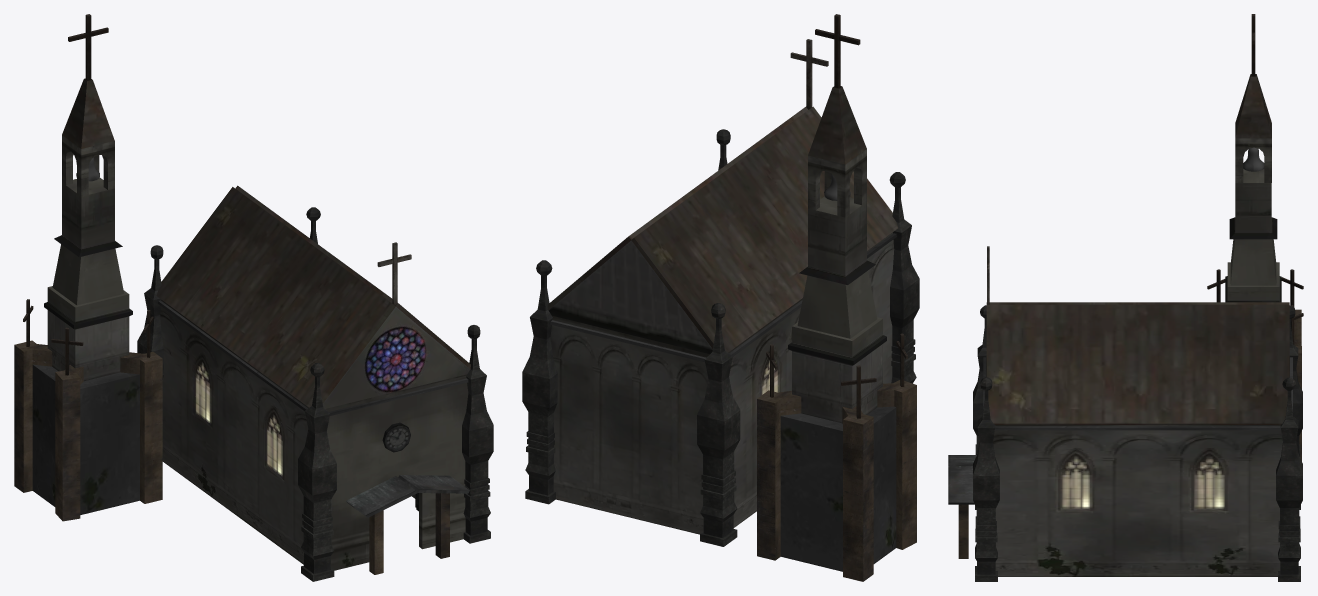
File: church.glb
The picture shows the model from 3 angles, left to right: view 1: azimuth 30°, elevation 25°; view 2: azimuth 150°, elevation 25°; view 3: azimuth 270°, elevation 25°; orthographic projection. The views are drawn at different scales.
Visible parts, largest first — view 1: igreja_partes:pCube12_igreja_estrutura_0, igreja_partes:pCube14_igreja_estrutura_0, torre_igreja:corpo_torre_0, torre_igreja:base_torre_0, igreja_partes:polySurface1_estrutura_02_0 (×3), igreja_partes:pCube13_igreja_estrutura_0, torre_igreja:base_4_torre_0, torre_igreja:base_2_torre_0, torre_igreja:base_1_torre_0, igreja_partes:pCube16_igreja_estrutura_0, torre_igreja:telhado_torre_0, torre_igreja:arco_torre_0 (+5 smaller); view 2: igreja_partes:pCube12_igreja_estrutura_0, igreja_partes:pCube14_igreja_estrutura_0, torre_igreja:corpo_torre_0, igreja_partes:polySurface1_estrutura_02_0 (×3), torre_igreja:base_torre_0, igreja_partes:pCube13_igreja_estrutura_0, torre_igreja:base_1_torre_0, torre_igreja:base_3_torre_0, torre_igreja:base_4_torre_0, torre_igreja:telhado_torre_0, torre_igreja:arco_torre_0, igreja_partes:pCube15_igreja_estrutura_0 (+3 smaller); view 3: igreja_partes:pCube12_igreja_estrutura_0, igreja_partes:pCube14_igreja_estrutura_0, igreja_partes:polySurface1_estrutura_02_0 (×4), torre_igreja:corpo_torre_0, torre_igreja:telhado_torre_0, igreja_partes:pCube15_igreja_estrutura_0, igreja_partes:pCube16_igreja_estrutura_0, torre_igreja:arco_torre_0, SmartCombine_0_torre_0, igreja_partes:pCube17_igreja_estrutura_0.
Boxes of the visible parts, x1,y1,x2,y2 form: igreja_partes:pCube12_igreja_estrutura_0: [160, 300, 468, 570]; igreja_partes:pCube14_igreja_estrutura_0: [156, 185, 470, 407]; torre_igreja:corpo_torre_0: [44, 177, 132, 381]; torre_igreja:base_torre_0: [32, 364, 139, 514]; igreja_partes:polySurface1_estrutura_02_0 (×3): [137, 293, 493, 581]; igreja_partes:pCube13_igreja_estrutura_0: [323, 307, 470, 408]; torre_igreja:base_4_torre_0: [55, 365, 83, 521]; torre_igreja:base_2_torre_0: [120, 351, 162, 503]; torre_igreja:base_1_torre_0: [14, 340, 52, 492]; igreja_partes:pCube16_igreja_estrutura_0: [346, 475, 469, 517]; torre_igreja:telhado_torre_0: [62, 78, 114, 148]; torre_igreja:arco_torre_0: [62, 135, 114, 196]; igreja_partes:pCube12_igreja_estrutura_0: [550, 232, 894, 534]; igreja_partes:pCube14_igreja_estrutura_0: [547, 106, 897, 352]; torre_igreja:corpo_torre_0: [788, 196, 886, 423]; igreja_partes:polySurface1_estrutura_02_0 (×3): [522, 225, 919, 546]; torre_igreja:base_torre_0: [780, 406, 896, 571]; igreja_partes:pCube13_igreja_estrutura_0: [548, 240, 712, 353]; torre_igreja:base_1_torre_0: [842, 406, 873, 581]; torre_igreja:base_3_torre_0: [757, 390, 801, 560]; torre_igreja:base_4_torre_0: [877, 380, 916, 549]; torre_igreja:telhado_torre_0: [808, 86, 866, 164]; torre_igreja:arco_torre_0: [808, 149, 866, 217]; igreja_partes:pCube15_igreja_estrutura_0: [550, 233, 896, 362]; igreja_partes:pCube12_igreja_estrutura_0: [993, 425, 1282, 576]; igreja_partes:pCube14_igreja_estrutura_0: [986, 302, 1289, 424]; igreja_partes:polySurface1_estrutura_02_0 (×4): [973, 355, 1302, 581]; torre_igreja:corpo_torre_0: [1225, 169, 1281, 302]; torre_igreja:telhado_torre_0: [1235, 74, 1271, 138]; igreja_partes:pCube15_igreja_estrutura_0: [983, 357, 1292, 430]; igreja_partes:pCube16_igreja_estrutura_0: [948, 455, 976, 504]; torre_igreja:arco_torre_0: [1235, 138, 1271, 182]; SmartCombine_0_torre_0: [1207, 269, 1303, 344]; igreja_partes:pCube17_igreja_estrutura_0: [958, 504, 968, 558].
Bounding box in the file's own units: 12.64 × 18.81 × 13.46.
5 materials, 5 textured.
